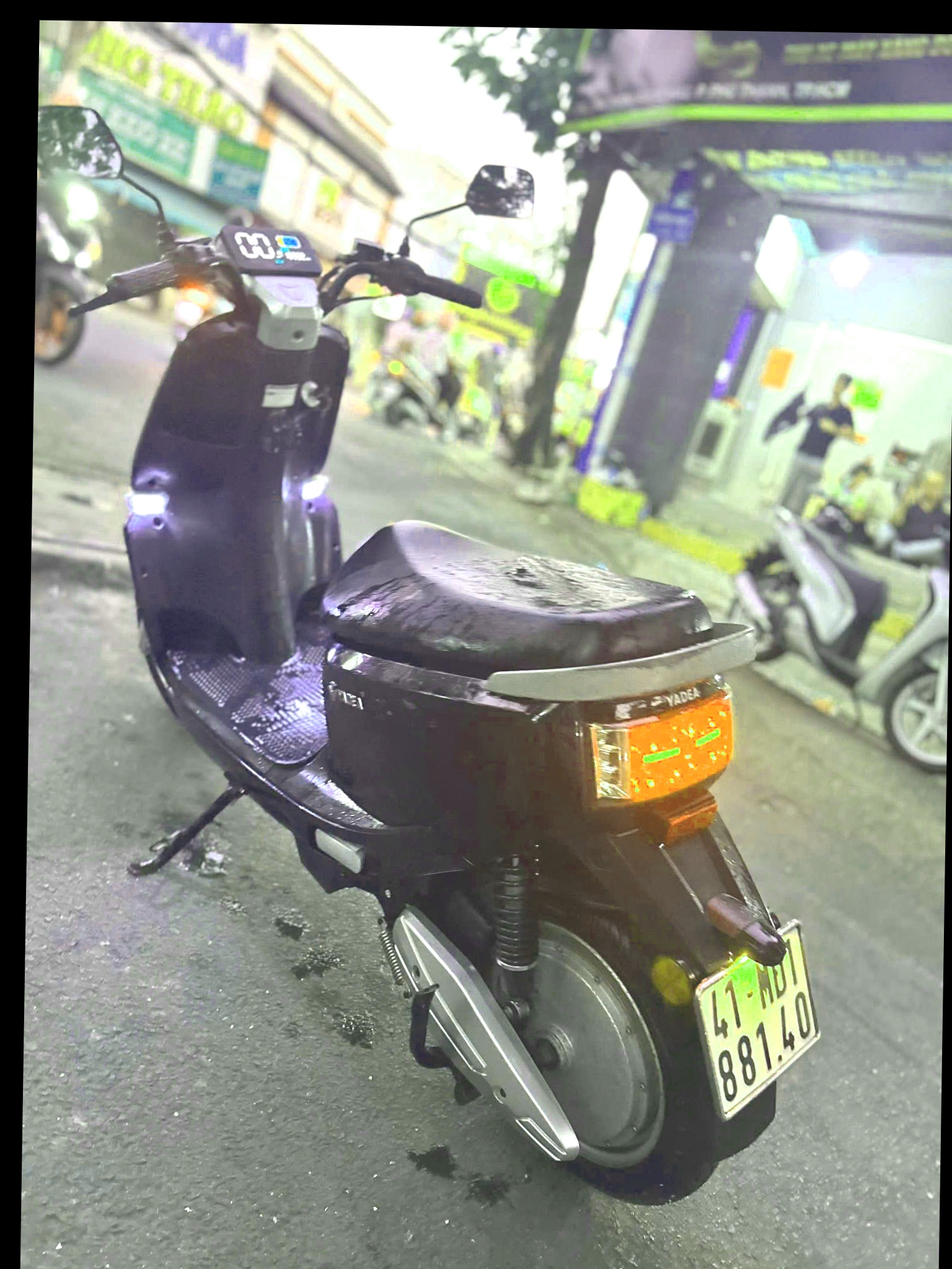Bien-so: (694, 884, 841, 1094)
